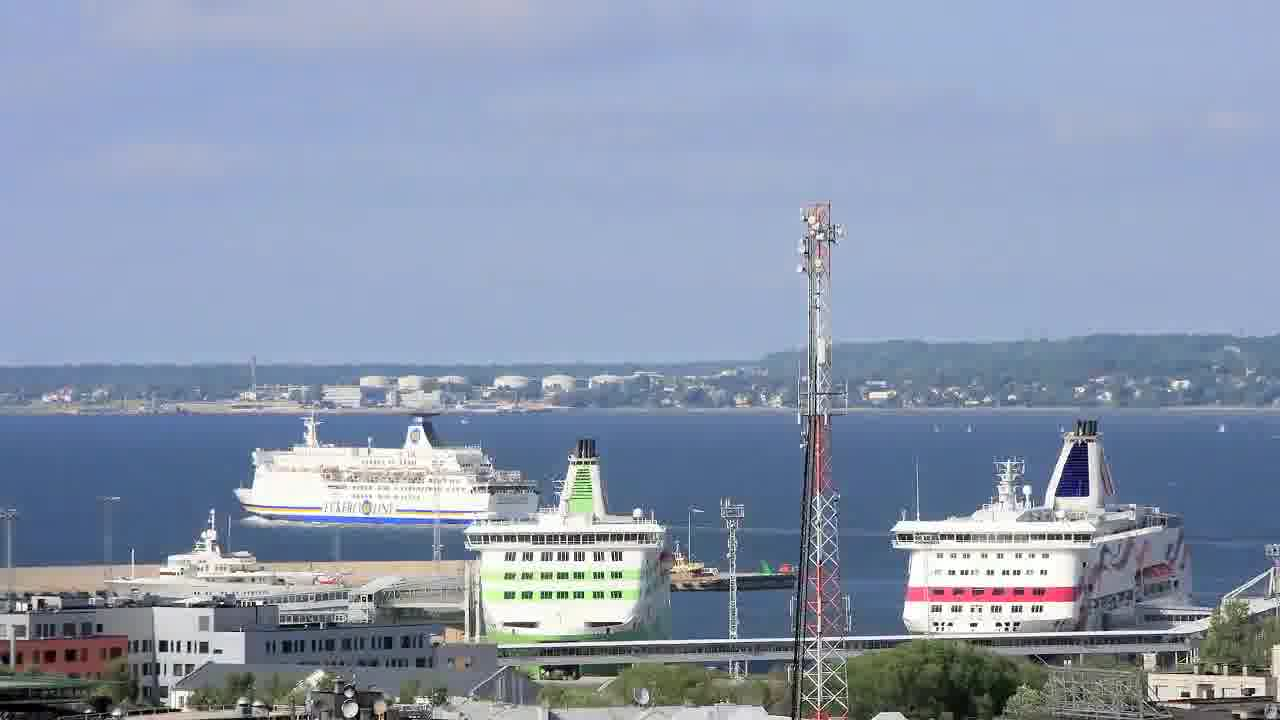type-3: (868, 415, 1225, 638), (436, 434, 694, 670), (227, 391, 545, 544), (66, 495, 357, 613)
